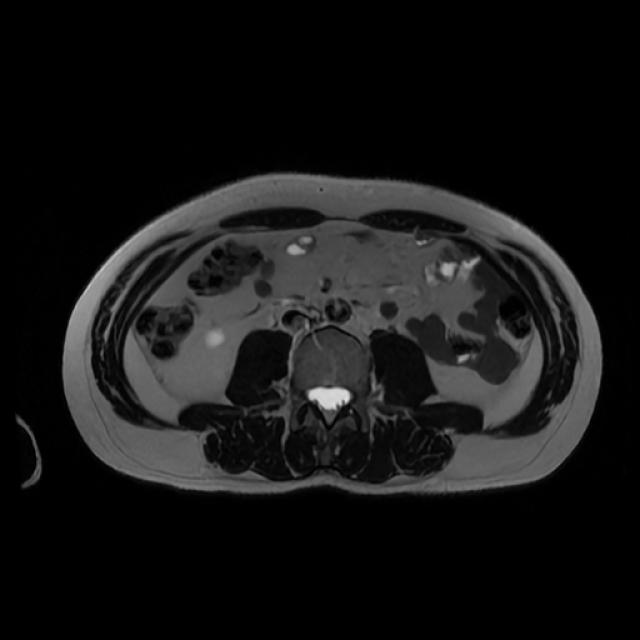sag: (207, 324, 227, 349)
